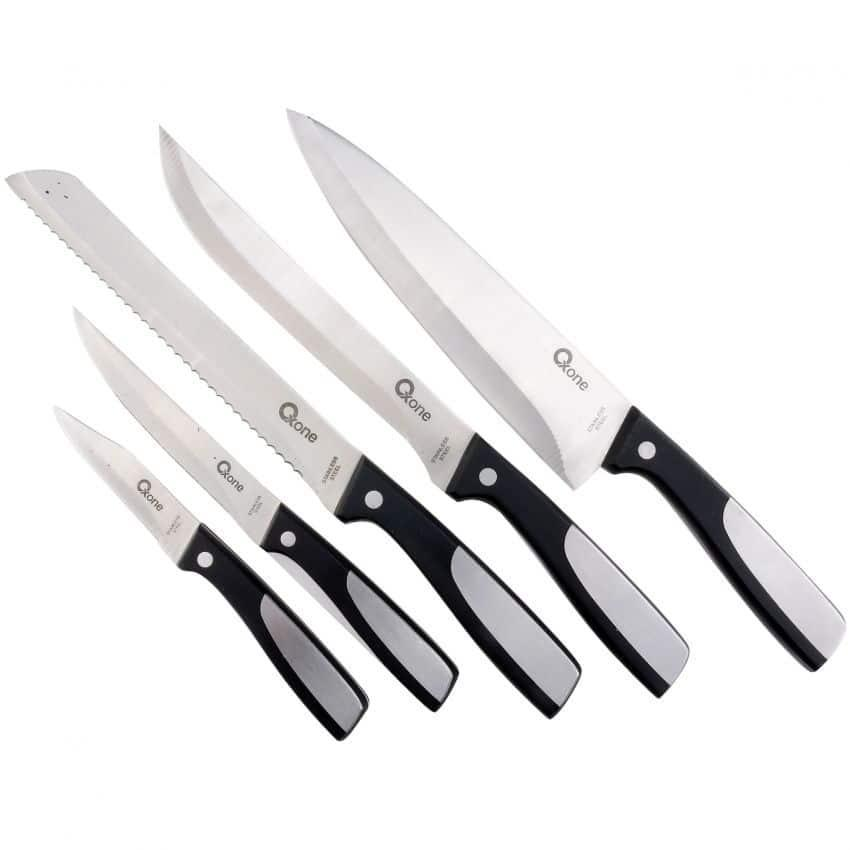faca: (287, 110, 843, 669), (26, 171, 580, 717), (160, 131, 688, 696), (79, 319, 457, 710), (58, 409, 367, 739)
